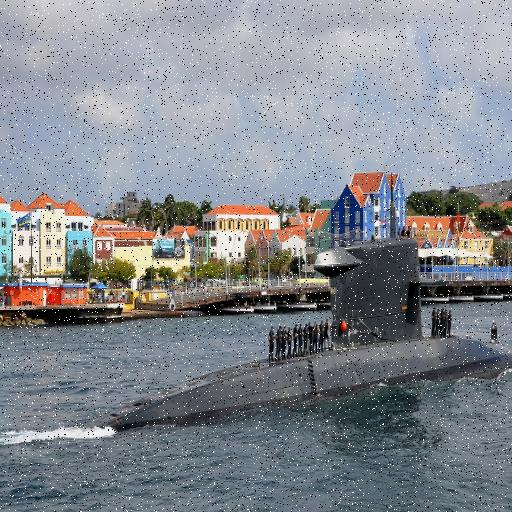submarine: (62, 209, 512, 441)
